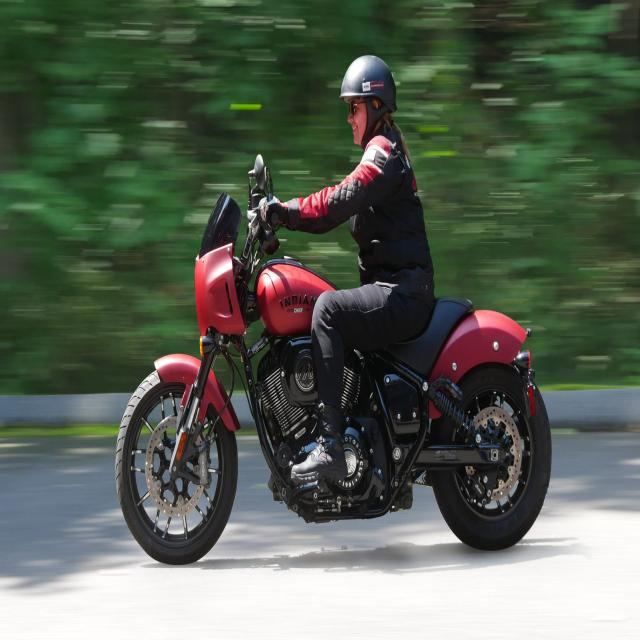motorcycle: (116, 56, 551, 563)
